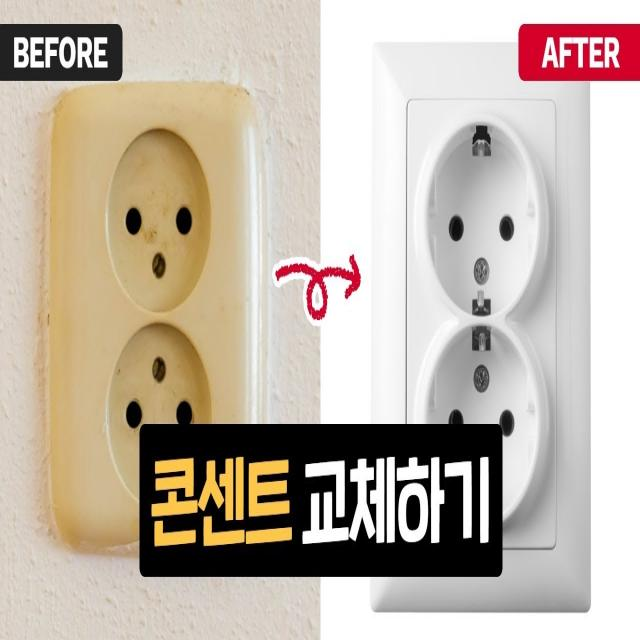typeb: (364, 89, 598, 387)
